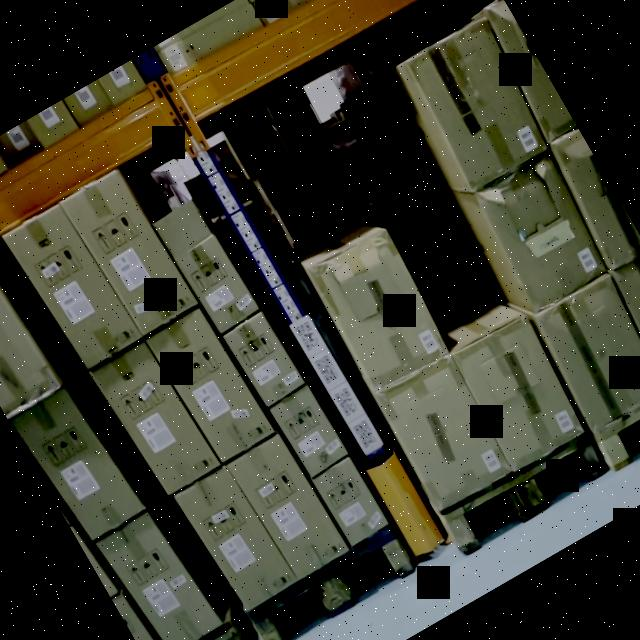box: (400, 20, 558, 196), (64, 172, 199, 340), (475, 159, 614, 315), (8, 386, 147, 542), (95, 339, 224, 500), (313, 238, 449, 388), (10, 206, 134, 364), (152, 310, 276, 461), (452, 318, 581, 462), (379, 359, 508, 502), (232, 436, 346, 580), (93, 513, 221, 640), (535, 282, 640, 430), (182, 468, 294, 606), (176, 232, 262, 336), (226, 314, 304, 406), (274, 392, 344, 473), (314, 461, 384, 541)
